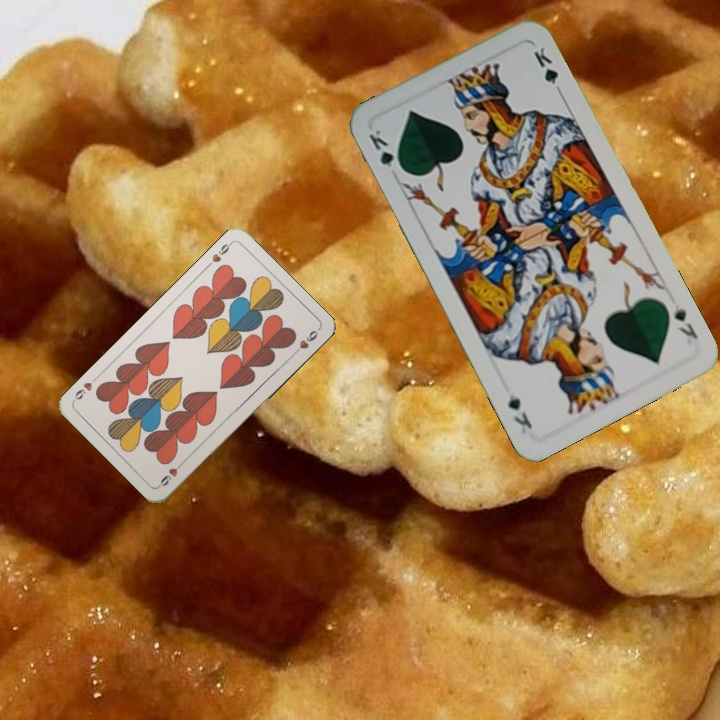GK: (364, 124, 407, 175), (670, 300, 701, 342)
H9: (155, 457, 187, 489), (202, 238, 234, 270)
